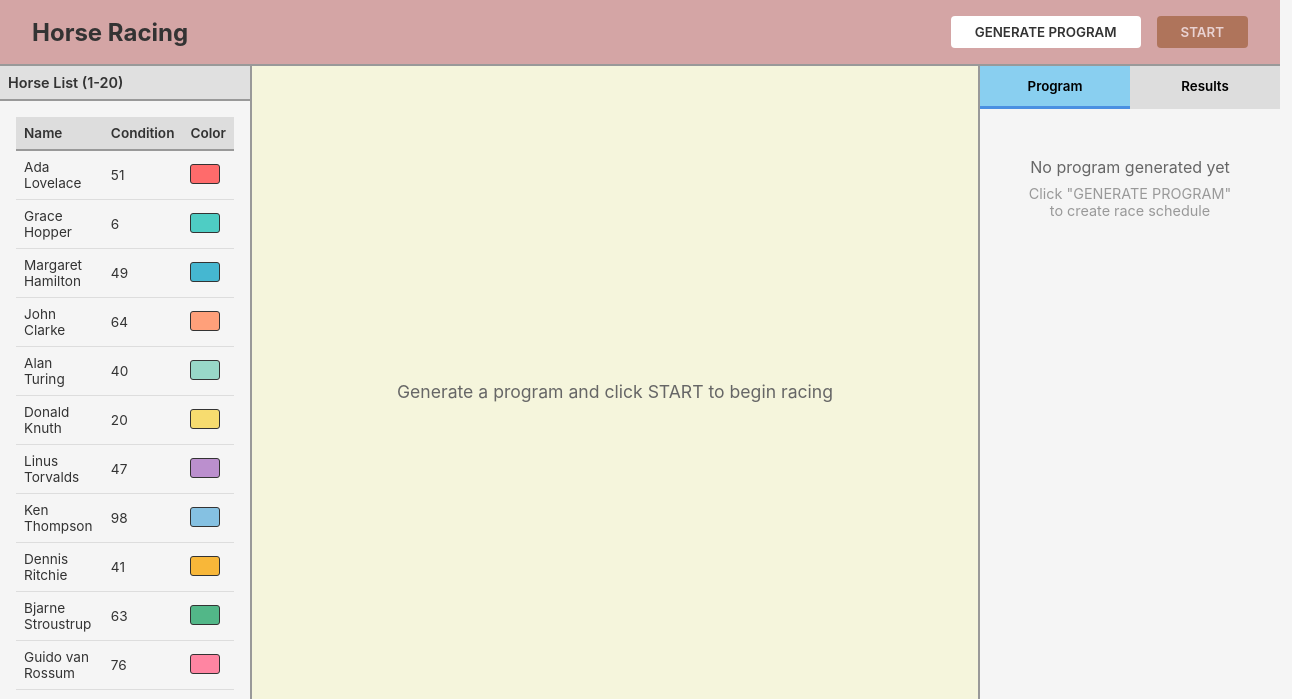
Test: Horse Racing Game - UI Validation › Race Track Display › should show 10 lanes
The image size is (1292, 699).
Click the button "GENERATE PROGRAM".
click(1046, 32)  # box [951,16,1141,48]
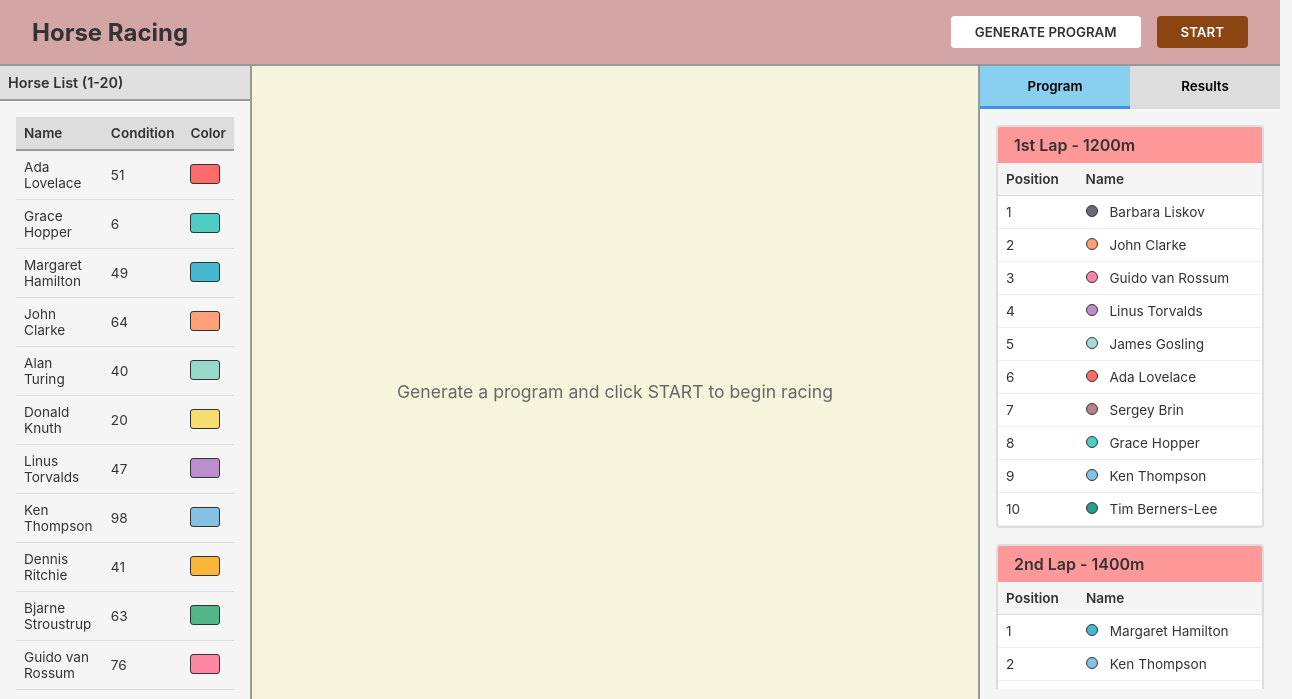
Click the button "START".
click(1203, 32)  # box [1157,16,1248,48]
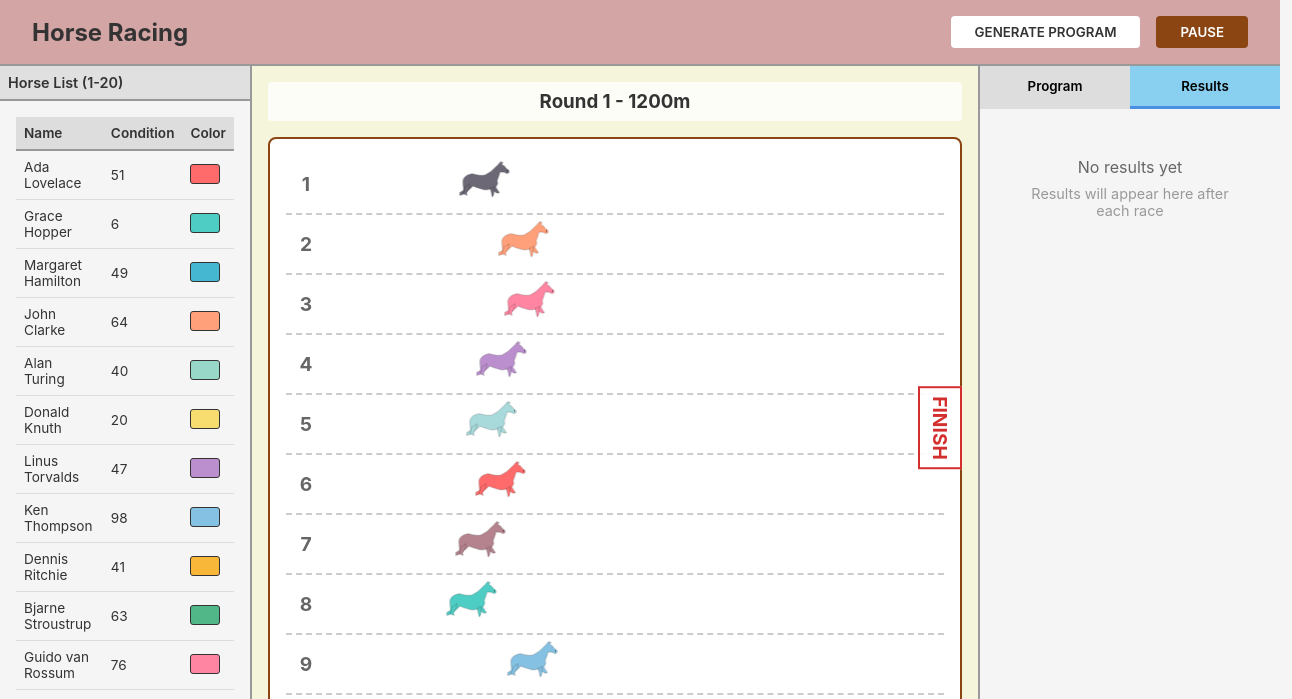
Now the number of elements with class "lane" is 10
Now the number of elements with class "lane-number" is 10
